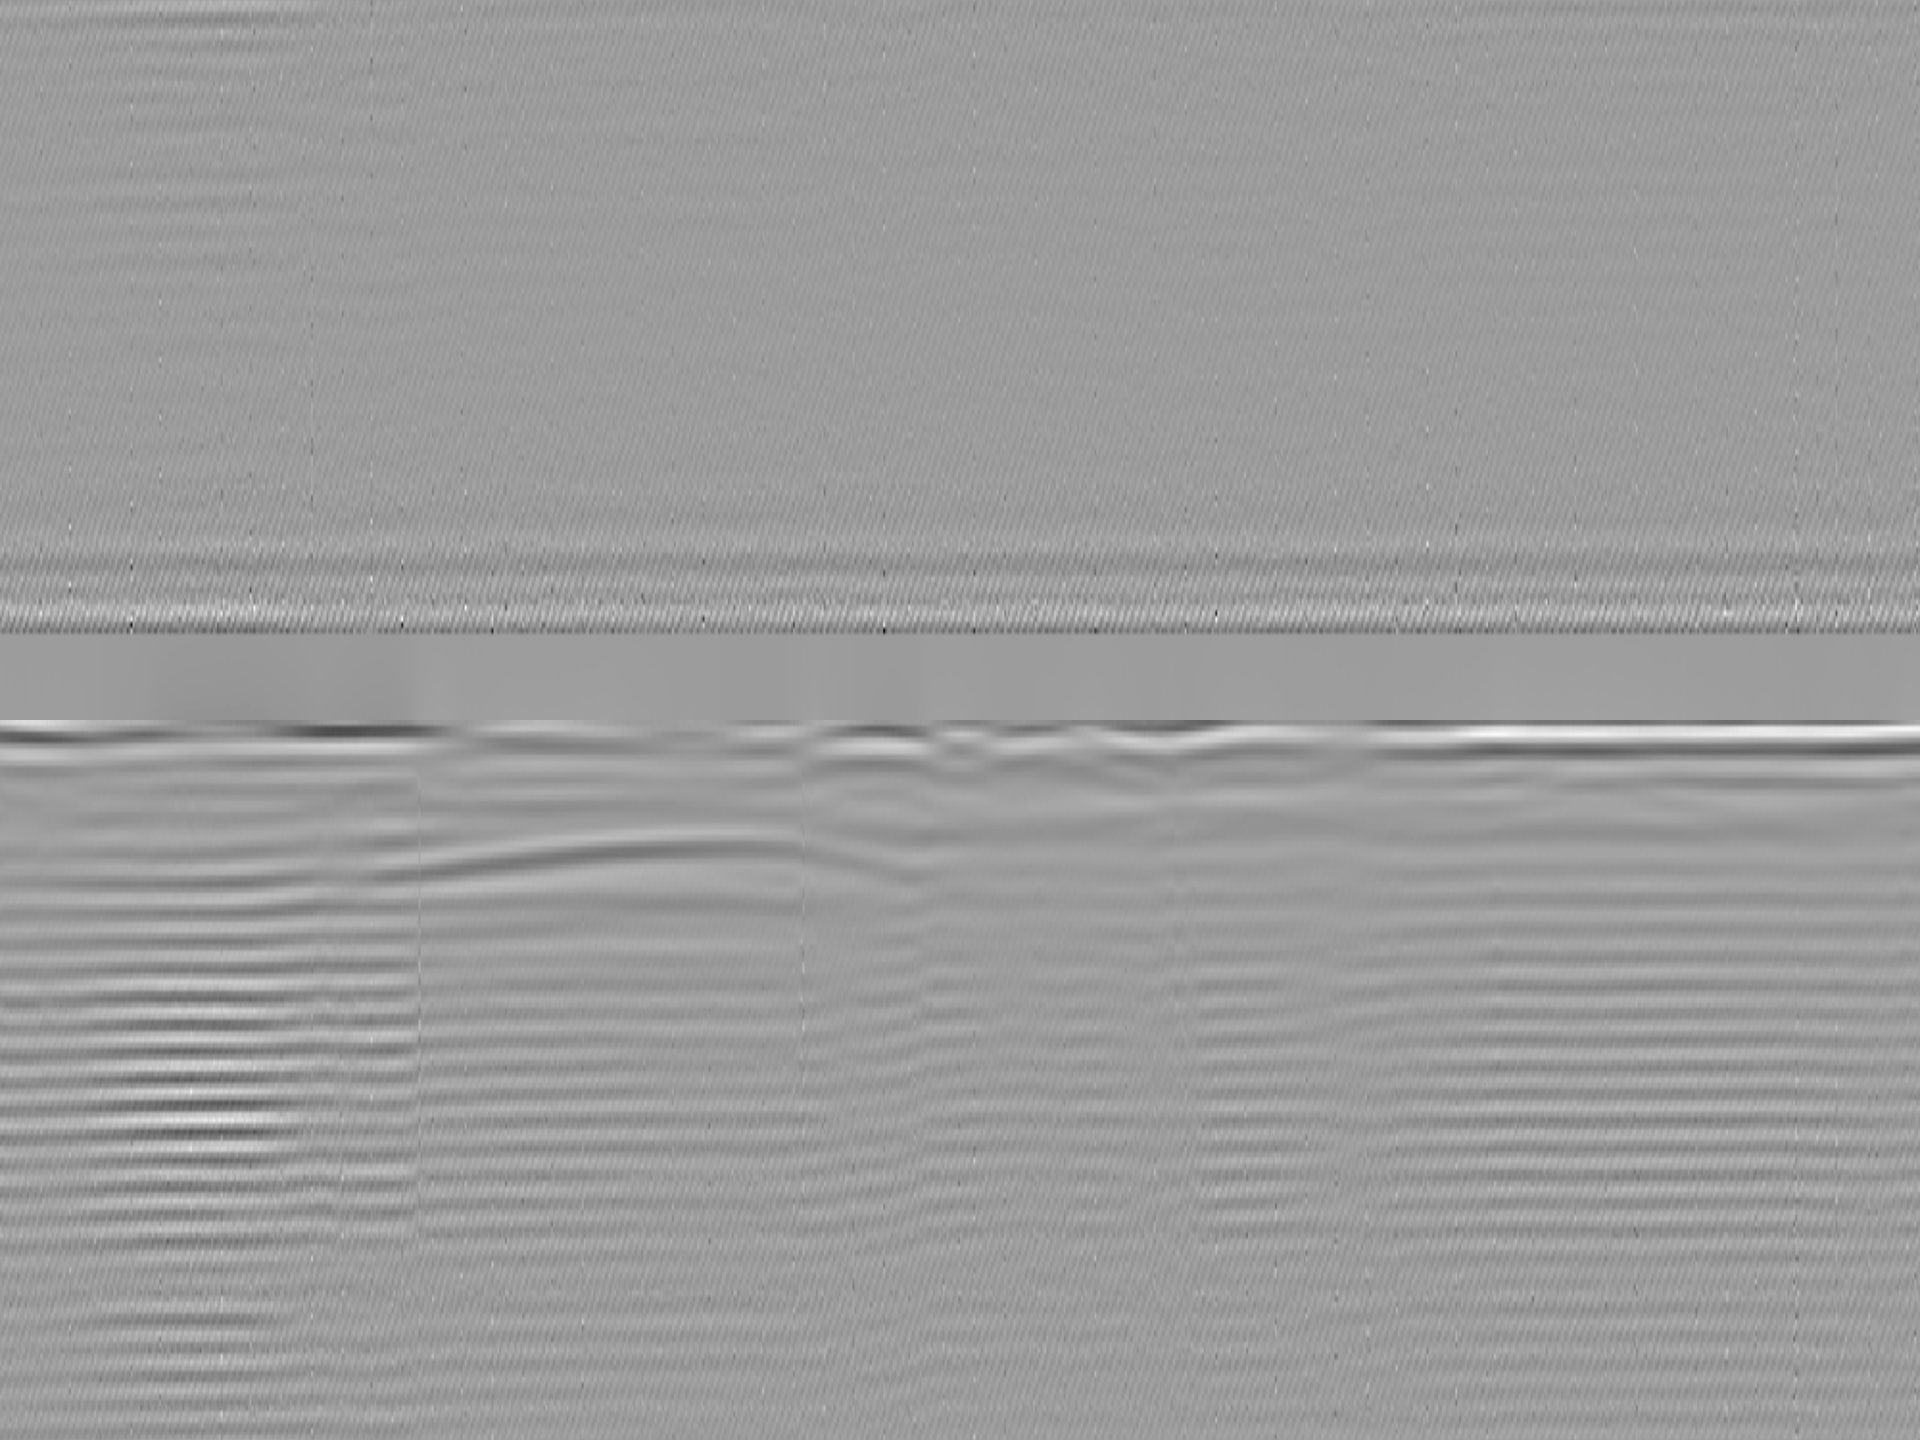Tunnel: (367, 832, 972, 895)
